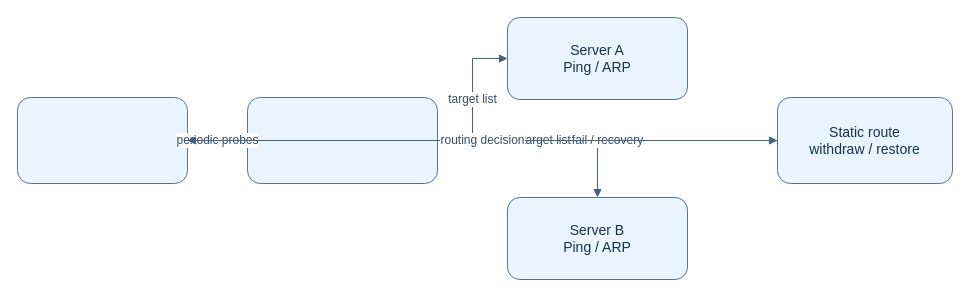
This 970x297 diagram has some shape labels left out. The shapes that lost their labels are listed below. From the top down, each one's centre as x and y in pixels, then its label:
At (102,140): "FortiSwitch L3 source interface".
At (342,140): "Link-monitor probe + timers".
